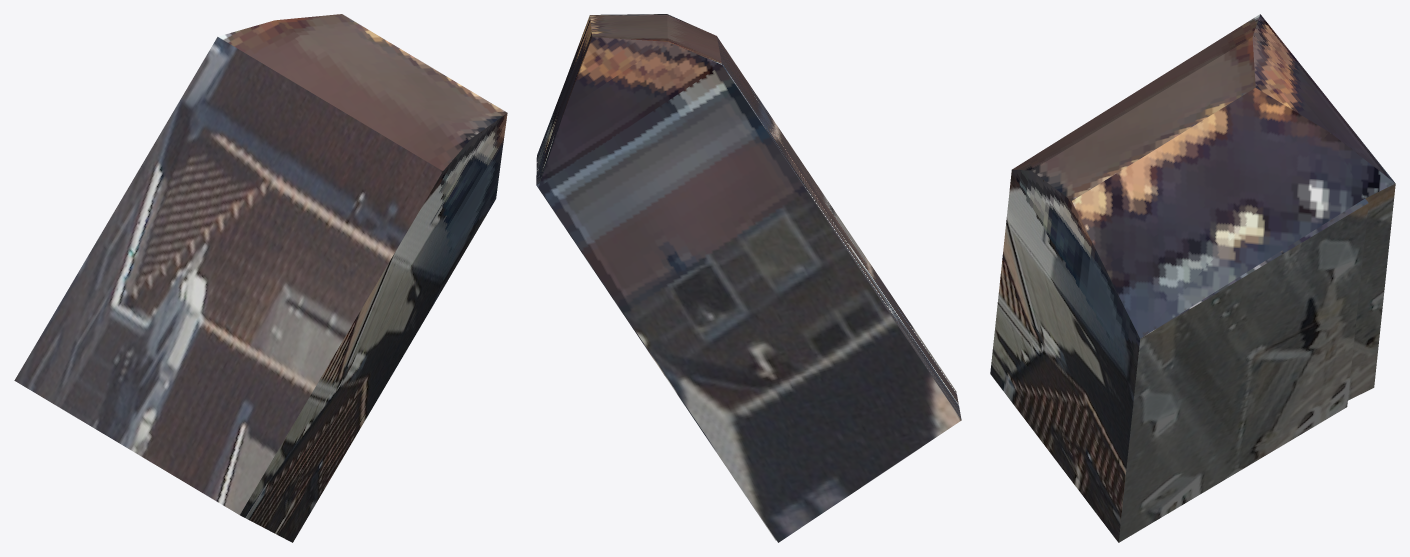
3 renders of one model, left to right at view 1: azimuth 30°, elevation 25°; view 2: azimuth 150°, elevation 25°; view 3: azimuth 270°, elevation 25°, orthographic. The views are drawn at different scales.
Visible parts, largest first — view 1: BAG_0599100000760361 (×3); view 2: BAG_0599100000760361 (×4); view 3: BAG_0599100000760361 (×4).
Boxes of the visible parts, <box> form: BAG_0599100000760361 (×3): <box>14,14,507,542</box>; BAG_0599100000760361 (×4): <box>536,14,961,542</box>; BAG_0599100000760361 (×4): <box>990,14,1395,542</box>.
Size of the model in its own units: 12.36 by 12.65 by 8.79.
Materials: 1 (1 with a texture image).
